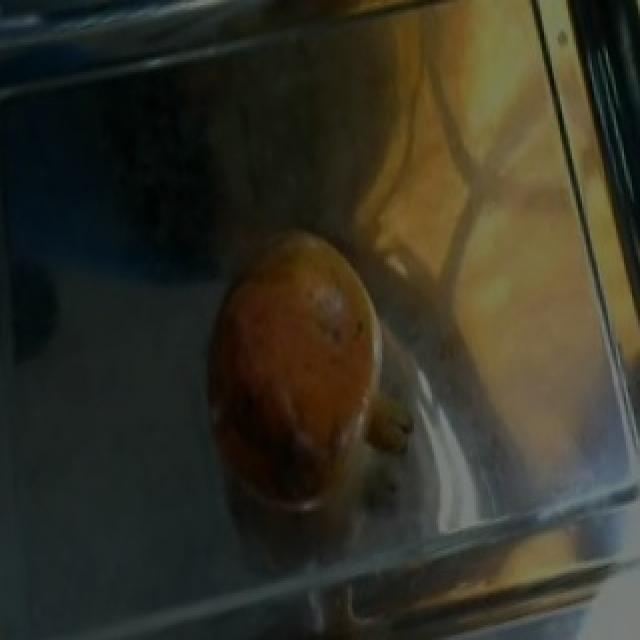fruit: (190, 206, 410, 494)
